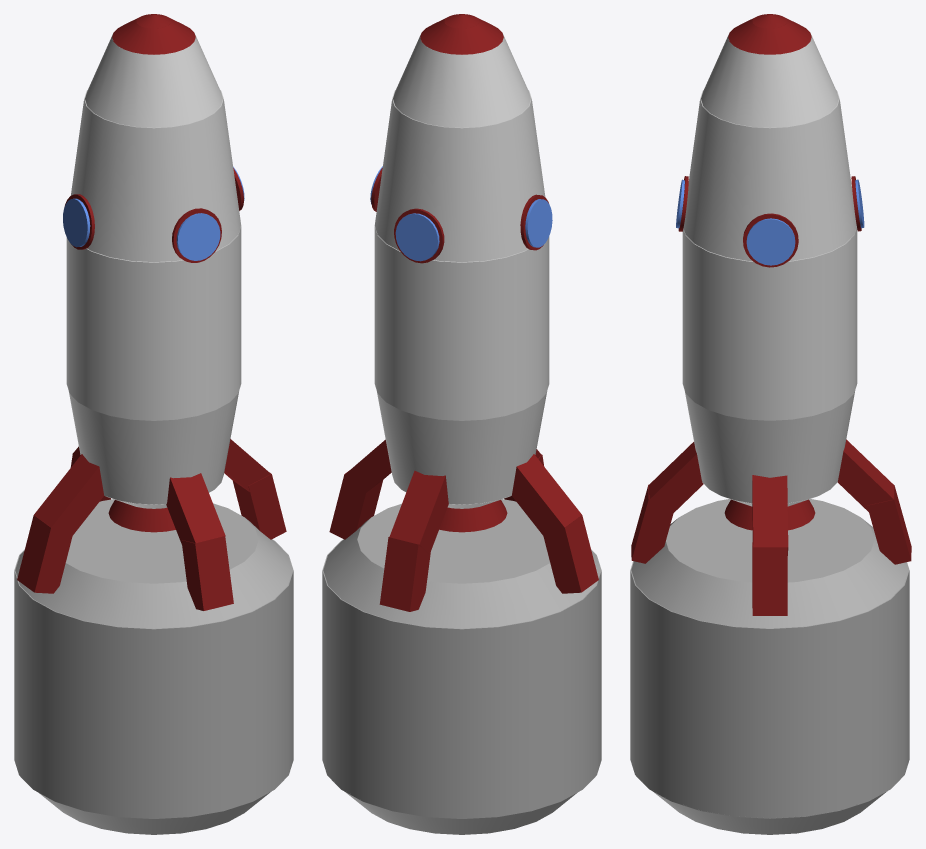
Rendered from rocket-hat.fbx.
3 renders of one model, left to right at view 1: azimuth 30°, elevation 25°; view 2: azimuth 150°, elevation 25°; view 3: azimuth 270°, elevation 25°, orthographic.
Visible parts, largest first — view 1: Cylinder16, Cylinder2, Cylinder4, Cylinder17, Cylinder, Cylinder5, Box, Box7, Box2, Cylinder18, Box6, Cylinder6 (+6 smaller); view 2: Cylinder16, Cylinder2, Cylinder4, Cylinder17, Cylinder, Cylinder5, Box, Box5, Box4, Cylinder18, Box2, Cylinder6 (+6 smaller); view 3: Cylinder16, Cylinder2, Cylinder17, Cylinder4, Cylinder, Cylinder5, Cylinder18, Box1, Box3, Box6, Box5, Cylinder6 (+5 smaller).
Part boxes in pixels (x1,y1,x2,y2): Cylinder16: (14, 539, 293, 818); Cylinder2: (66, 226, 241, 420); Cylinder4: (70, 90, 241, 261); Cylinder17: (15, 499, 292, 628); Cylinder: (68, 391, 238, 504); Cylinder5: (85, 33, 222, 127); Box: (34, 454, 104, 538); Box7: (181, 536, 233, 610); Box2: (17, 515, 74, 593); Cylinder18: (38, 782, 281, 834); Box6: (166, 473, 225, 544); Cylinder6: (112, 14, 195, 54); Cylinder16: (322, 539, 601, 818); Cylinder2: (374, 226, 549, 420); Cylinder4: (374, 90, 545, 261); Cylinder17: (323, 499, 600, 628); Cylinder: (377, 391, 547, 504); Cylinder5: (393, 33, 530, 127); Box: (511, 454, 581, 541); Box5: (389, 470, 448, 554); Box4: (379, 537, 430, 611); Cylinder18: (334, 782, 577, 834); Box2: (543, 515, 598, 593); Cylinder6: (420, 14, 503, 54); Cylinder16: (630, 561, 909, 818); Cylinder2: (682, 226, 857, 420); Cylinder17: (631, 499, 908, 628); Cylinder4: (683, 90, 856, 260); Cylinder: (685, 392, 854, 503); Cylinder5: (701, 33, 838, 127); Cylinder18: (653, 791, 886, 834); Box1: (752, 475, 788, 555); Box3: (752, 542, 787, 615); Box6: (648, 442, 703, 516); Box5: (837, 439, 893, 511); Cylinder6: (728, 14, 811, 54).
Size of the model in its own units: 0.8345 by 2.45 by 0.8059.
